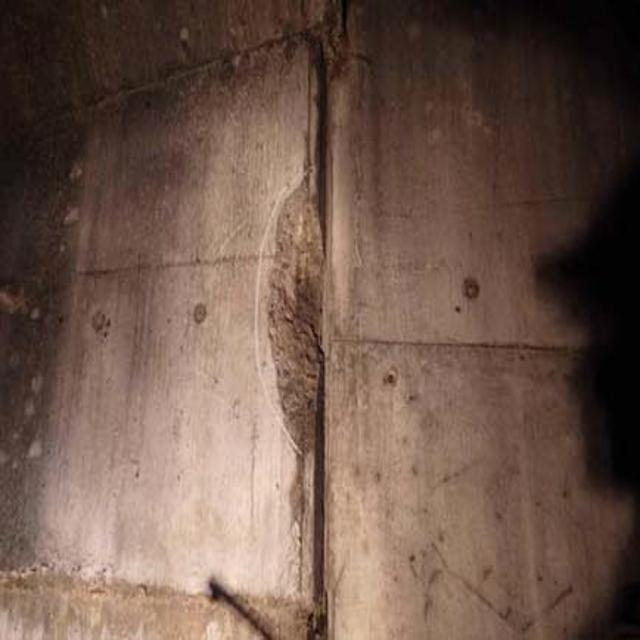spalling: (253, 179, 340, 484)
